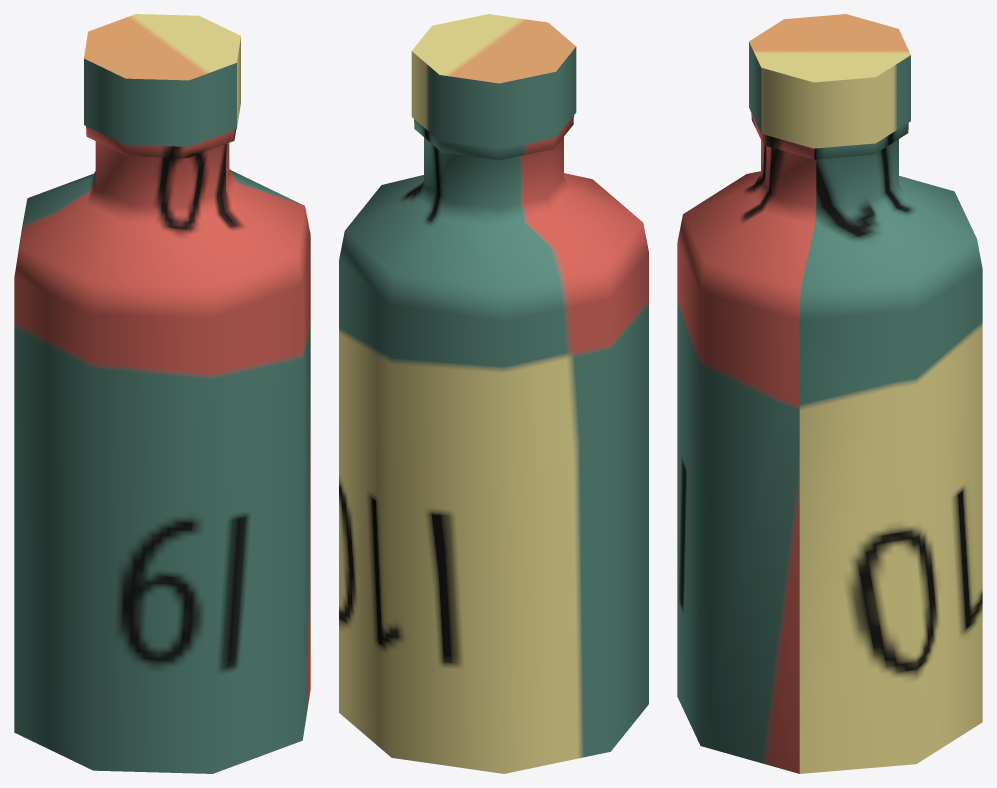
Rendered from SM_Botlle_S_01d.fbx.
The picture shows the model from 3 angles, left to right: view 1: azimuth 30°, elevation 25°; view 2: azimuth 150°, elevation 25°; view 3: azimuth 270°, elevation 25°; orthographic projection.
Visible parts, largest first — view 1: SM_Botlle_S_01d; view 2: SM_Botlle_S_01d; view 3: SM_Botlle_S_01d.
Boxes of the visible parts, x1=… form: SM_Botlle_S_01d: x1=14, y1=14, x2=310, y2=773; SM_Botlle_S_01d: x1=339, y1=14, x2=648, y2=773; SM_Botlle_S_01d: x1=677, y1=14, x2=982, y2=773.
Size of the model in its own units: 2.92 by 6.97 by 2.92.
Materials: 1 (1 with a texture image).
